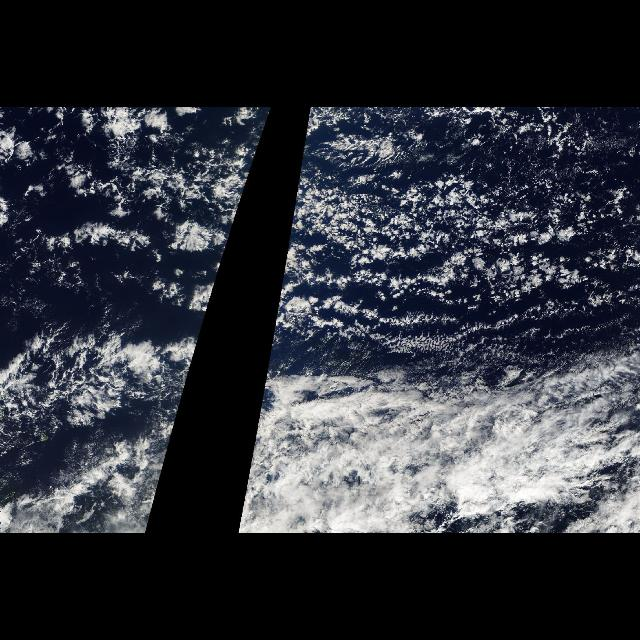Flower: (92, 152, 256, 328)
Gravel: (377, 110, 639, 220)
Sugar: (270, 113, 582, 353), (3, 113, 270, 353)
